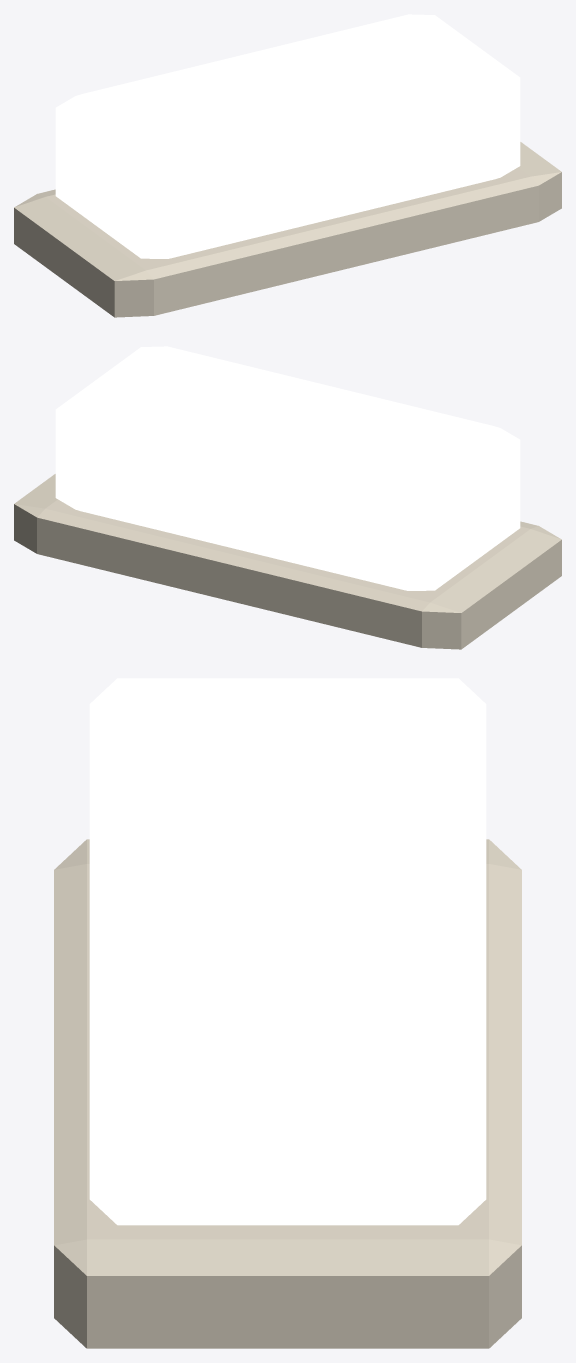
The model's file is b18_angled_awning_wash_light.glb.
The picture shows the model from 3 angles, top to bottom: view 1: azimuth 30°, elevation 25°; view 2: azimuth 150°, elevation 25°; view 3: azimuth 270°, elevation 25°; orthographic projection. The views are drawn at different scales.
Parts seen in each view (by area): view 1: b18_angled_awning_wash_light; view 2: b18_angled_awning_wash_light; view 3: b18_angled_awning_wash_light.
Part boxes in pixels (x1=…): b18_angled_awning_wash_light: x1=14, y1=14, x2=561, y2=317; b18_angled_awning_wash_light: x1=14, y1=346, x2=561, y2=649; b18_angled_awning_wash_light: x1=54, y1=678, x2=521, y2=1348.
Size of the model in its own units: 1.14 by 0.35 by 0.516.
